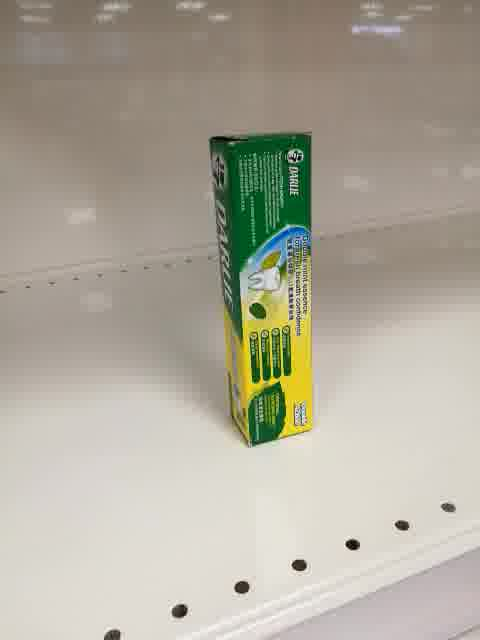toothpaste: (209, 131, 315, 447)
